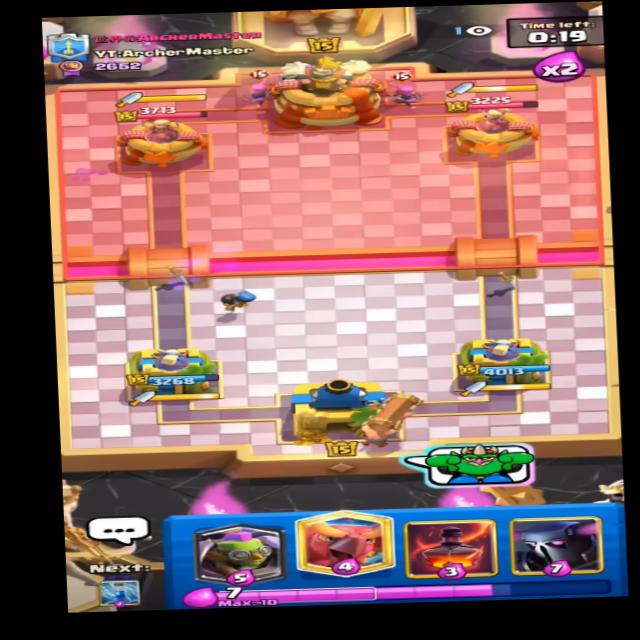evo-archers: (385, 67, 428, 109), (230, 68, 279, 104)
